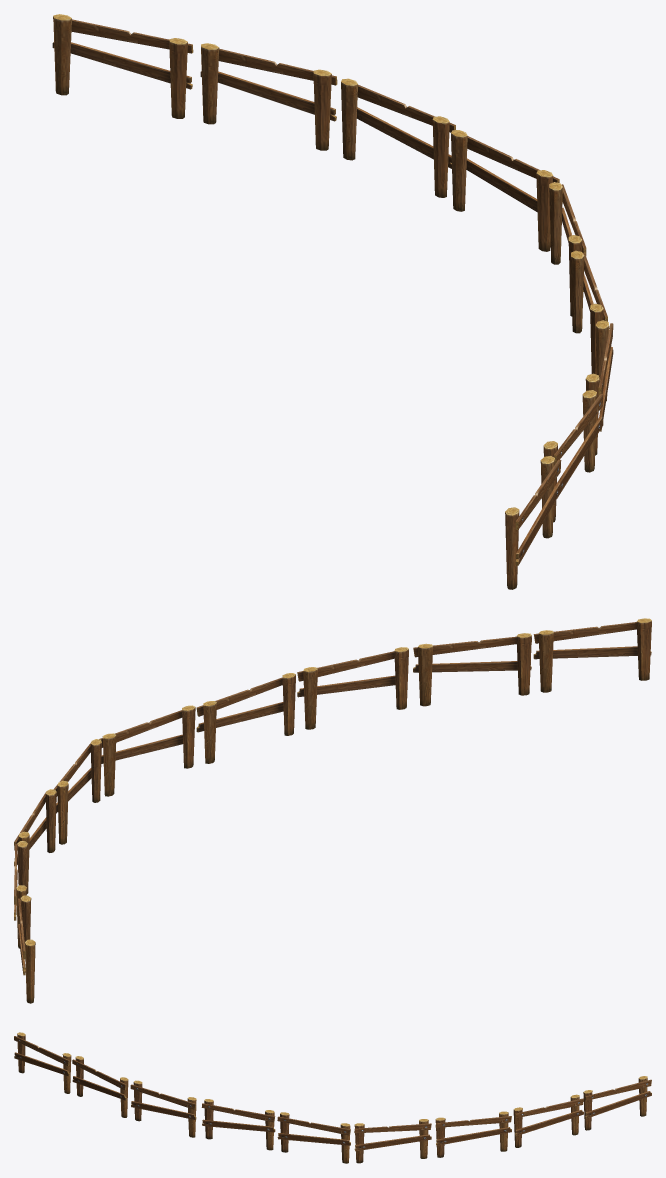
The model's file is Area_12_14.fbx.
3 renders of one model, top to bottom at view 1: azimuth 30°, elevation 25°; view 2: azimuth 150°, elevation 25°; view 3: azimuth 270°, elevation 25°, orthographic. The views are drawn at different scales.
Visible parts, largest first — view 1: Area_12_14; view 2: Area_12_14; view 3: Area_12_14.
Boxes of the visible parts, <box> form: Area_12_14: <box>52,14,613,589</box>; Area_12_14: <box>14,618,651,1003</box>; Area_12_14: <box>14,1032,651,1163</box>.
Bounding box in the file's own units: 746 × 145 × 2124.
